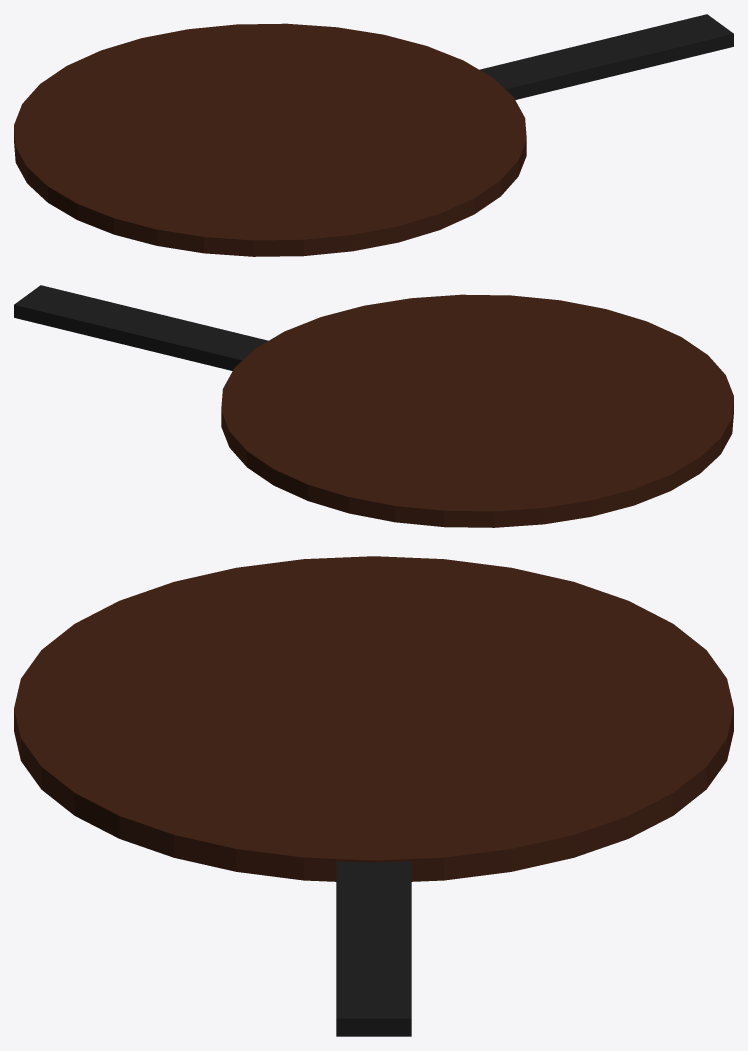
The model's file is PizzaPan.fbx.
3 renders of one model, top to bottom at view 1: azimuth 30°, elevation 25°; view 2: azimuth 150°, elevation 25°; view 3: azimuth 270°, elevation 25°, orthographic. The views are drawn at different scales.
Parts seen in each view (by area): view 1: Cylinder; view 2: Cylinder; view 3: Cylinder.
Part boxes in pixels (bbox=[...]): Cylinder: bbox=[14, 14, 733, 256]; Cylinder: bbox=[14, 285, 733, 527]; Cylinder: bbox=[14, 556, 733, 1036].
Size of the model in its own units: 5.32 by 0.1238 by 3.52.
